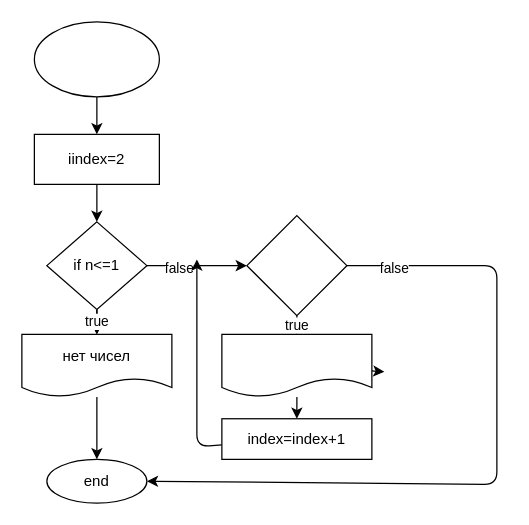
This 529x525 diagram has some shape labels left out. The centre of each missing label's shape, as x and y in pixels:
"index" goes at (296,365).
"index<=n" goes at (296,265).
"start" goes at (96,59).
